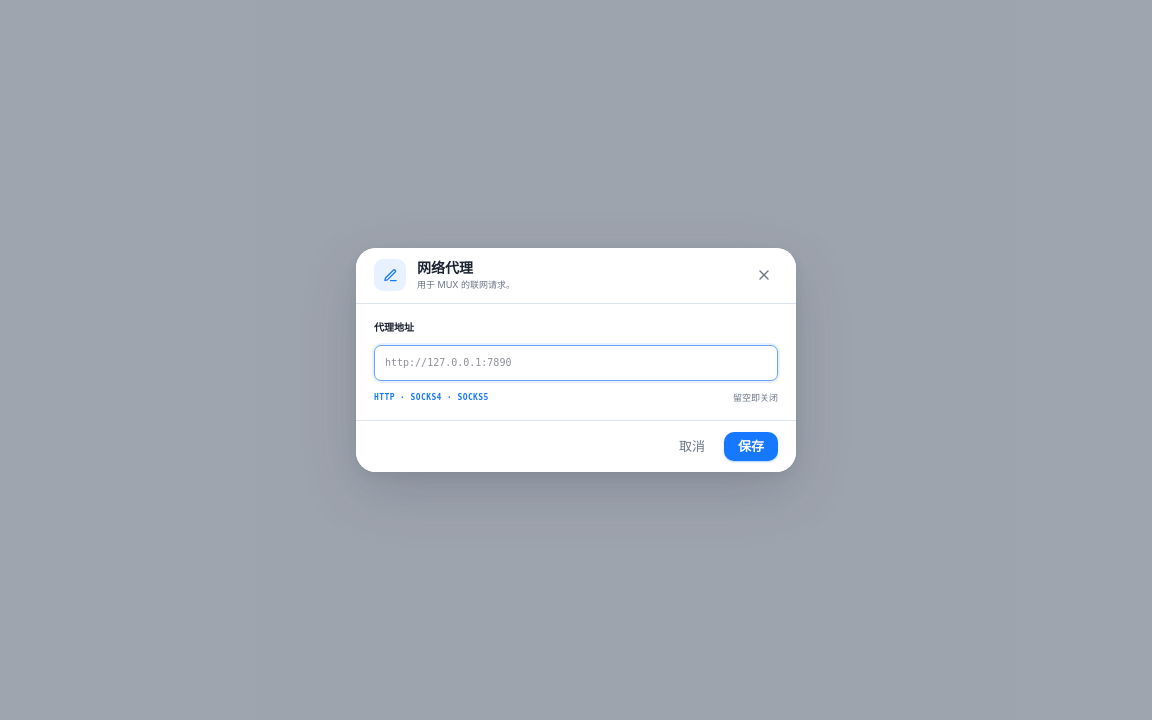
Test: ProxySettingsDialog › keeps the dialog open and shows a validation error
Type "https://127.0.0.1:7890" into the field labelled "代理地址".
click(576, 363); type("https://127.0.0.1:7890")  # box x1=374 y1=345 x2=778 y2=381
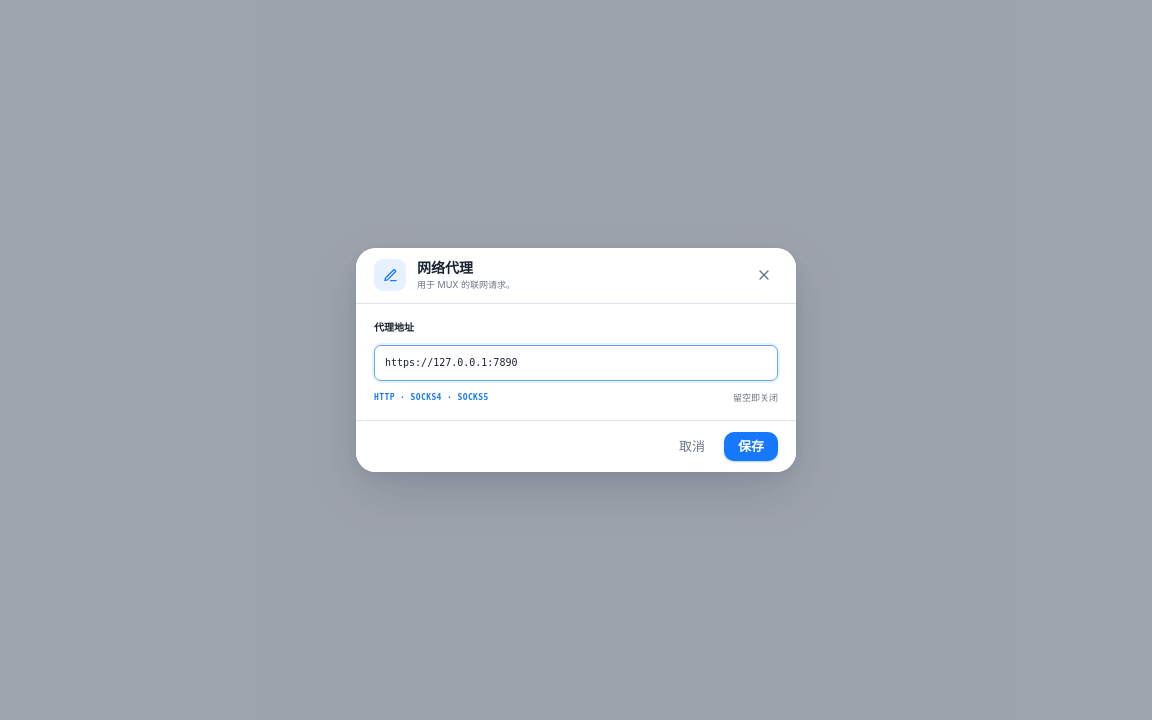
Click the button "保存".
click(751, 447)  # box x1=724 y1=432 x2=778 y2=461
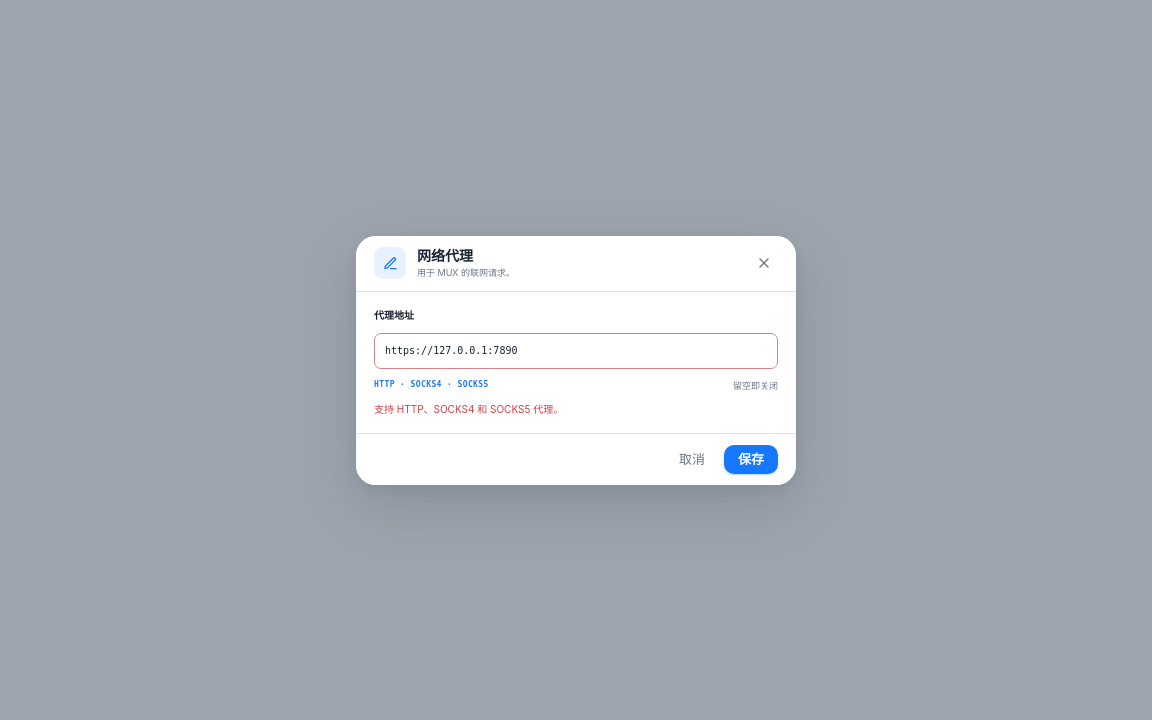
Expected: the message reads "支持 HTTP、SOCKS4 和 SOCKS5 代理。", x1=374 y1=403 x2=563 y2=415
